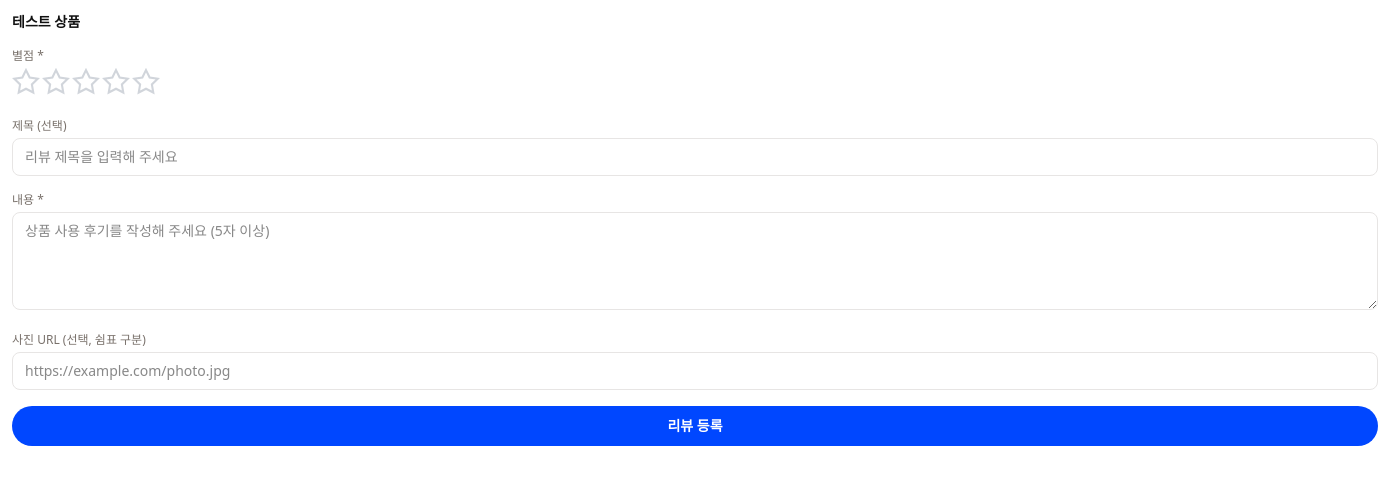
Test: ReviewForm › 서버 에러 반환 시 에러 메시지를 표시한다
Click the button named "3점": (86,82) [72,68,100,96]
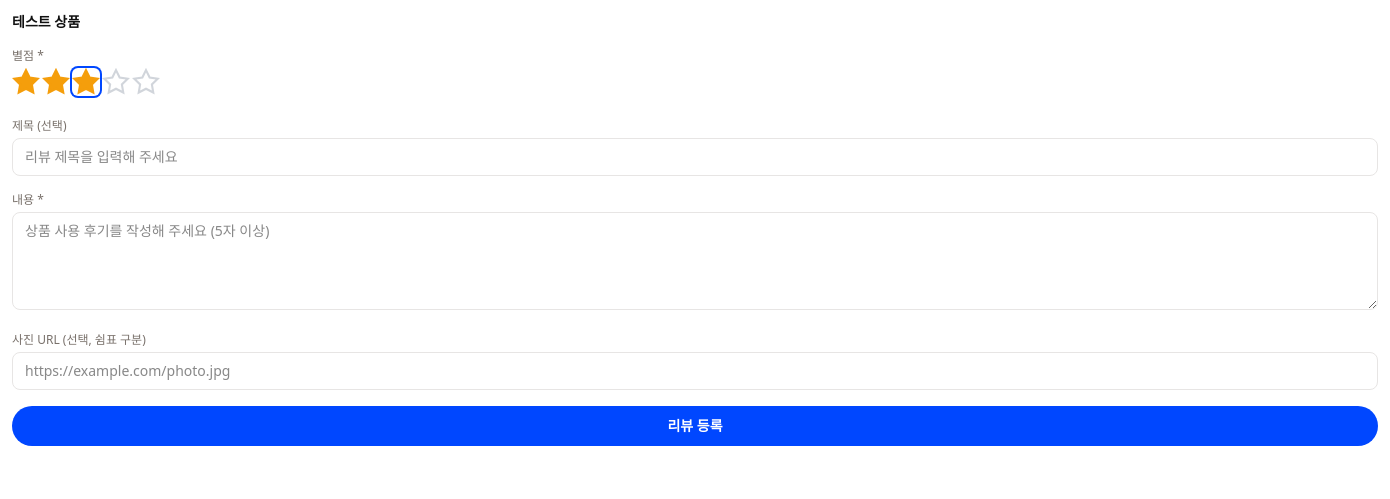
In the text box labelled "내용 *": (695,261) [12,212,1378,310], type "충분한 내용입니다"
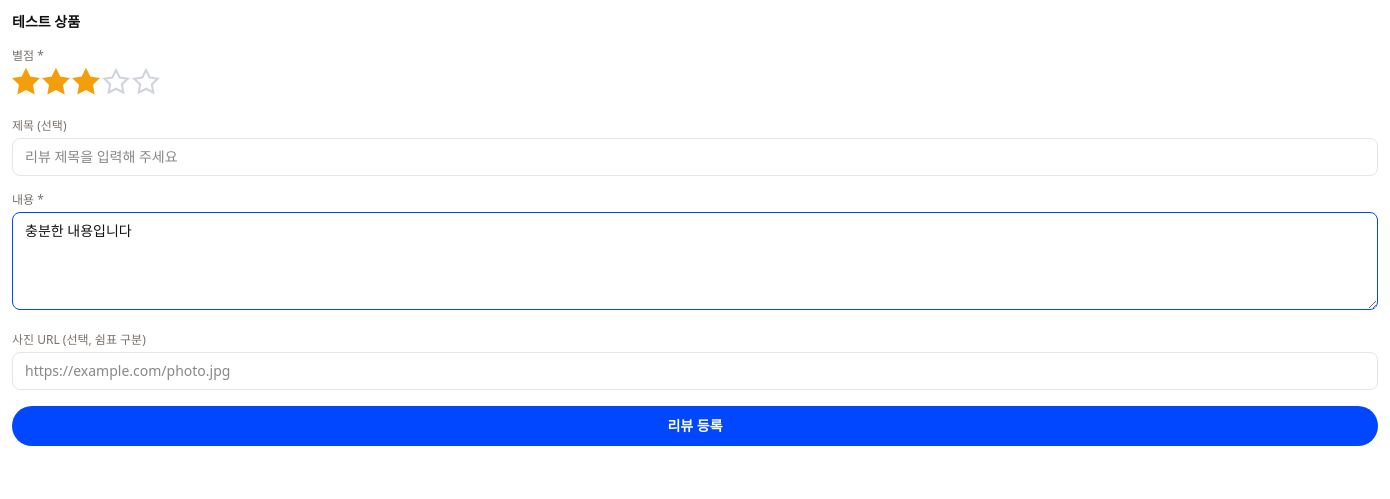
Click the button "리뷰 등록": (695,426) [12,406,1378,446]
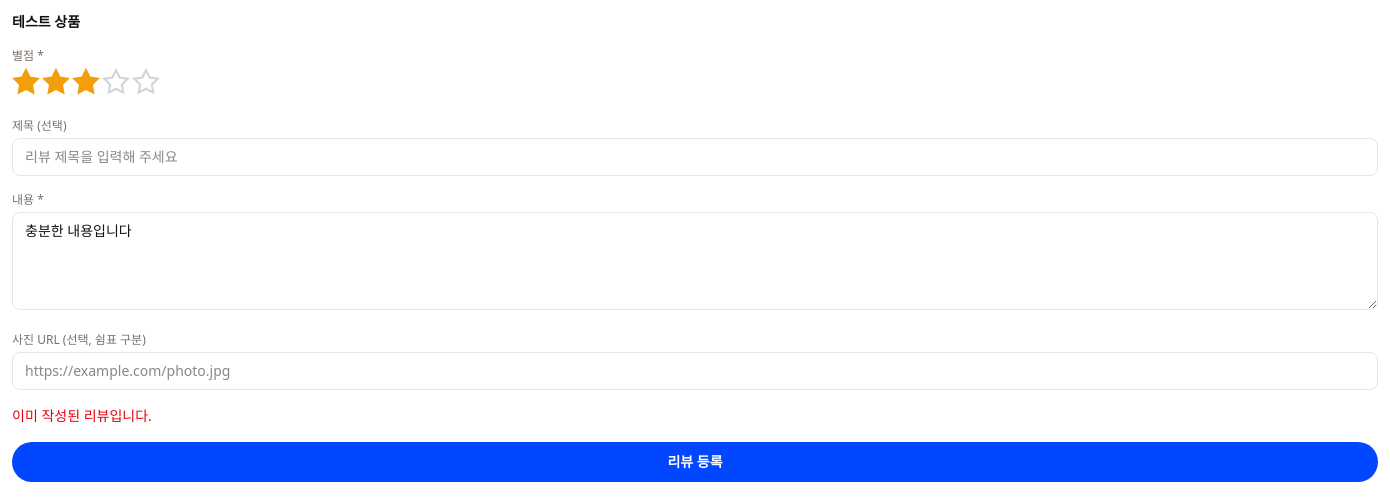
Check: the message reads "이미 작성된 리뷰입니다.", box [12,406,152,425]
